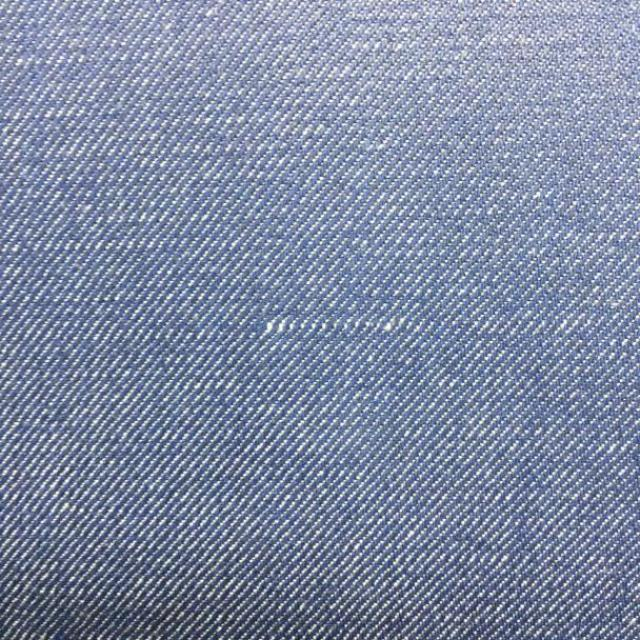Knot: (265, 317, 405, 334)
